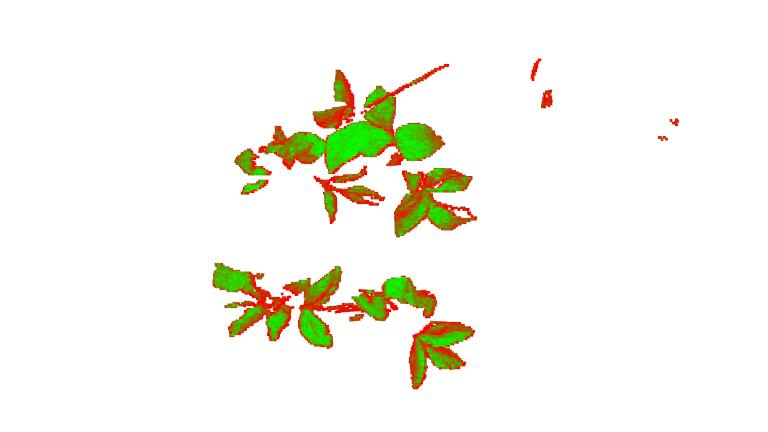mungbean: (234, 70, 385, 225), (362, 84, 481, 242), (344, 277, 477, 393), (209, 258, 342, 349)
